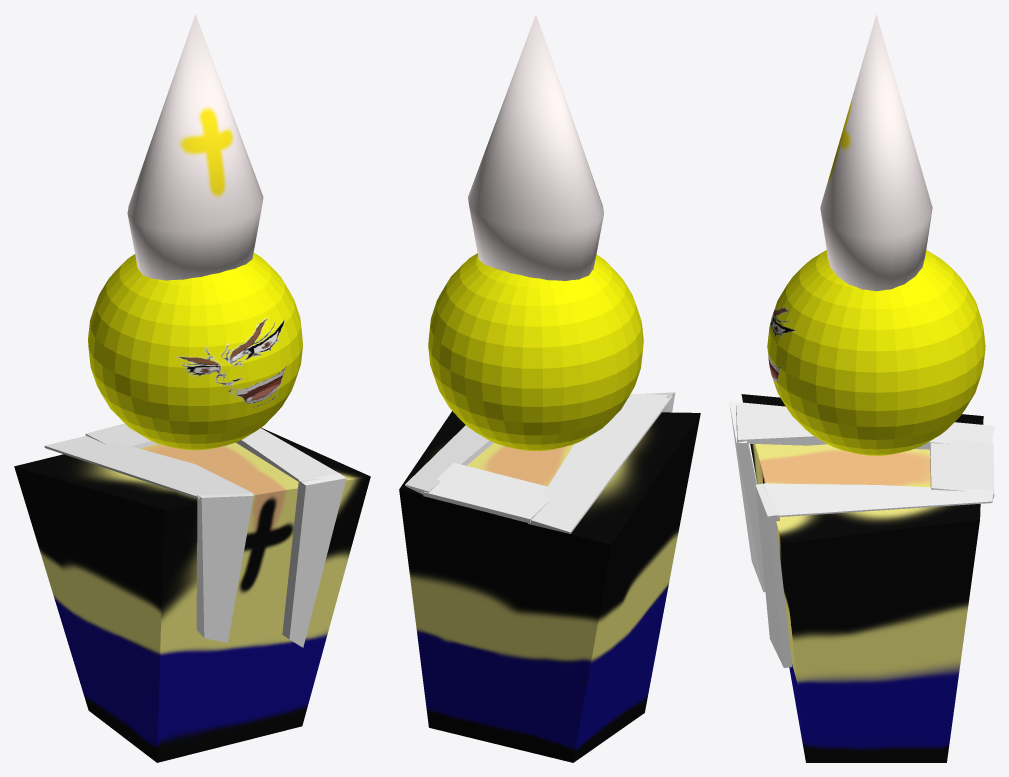
File: biskup.fbx
The picture shows the model from 3 angles, left to right: view 1: azimuth 30°, elevation 25°; view 2: azimuth 150°, elevation 25°; view 3: azimuth 270°, elevation 25°; orthographic projection.
Visible parts, largest first — view 1: Cube.001, Cube, Cube.003, Cube.002; view 2: Cube.001, Cube, Cube.003, Cube.002; view 3: Cube.001, Cube, Cube.003, Cube.002.
Boxes of the visible parts, box(x1,y1,x2,y2) form: Cube.001: box(14, 427, 370, 762); Cube: box(88, 253, 302, 450); Cube.003: box(127, 14, 263, 280); Cube.002: box(44, 423, 346, 647); Cube.001: box(399, 411, 700, 762); Cube: box(428, 253, 643, 450); Cube.003: box(468, 14, 603, 280); Cube.002: box(405, 392, 675, 533); Cube.001: box(741, 394, 983, 762); Cube: box(767, 250, 985, 455); Cube.003: box(820, 14, 932, 291); Cube.002: box(729, 401, 994, 667).
Bounding box in the file's own units: 68.9 × 60.8 × 180.
